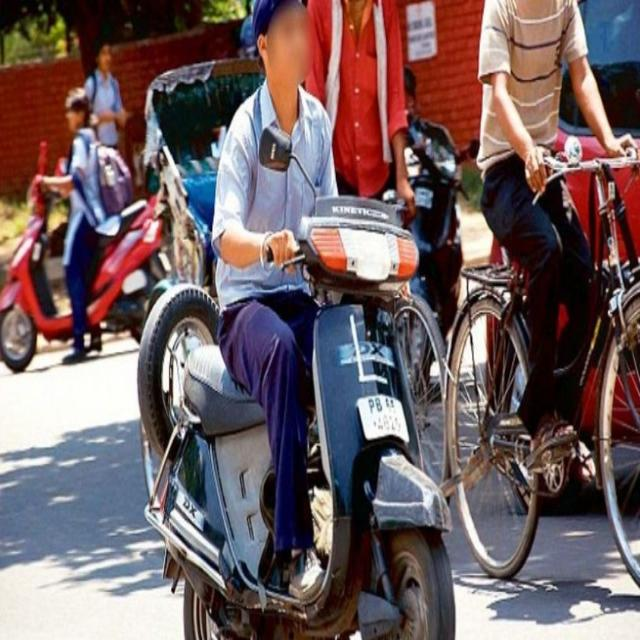Not Wearing Helmet: (242, 0, 330, 128), (60, 60, 95, 164)
